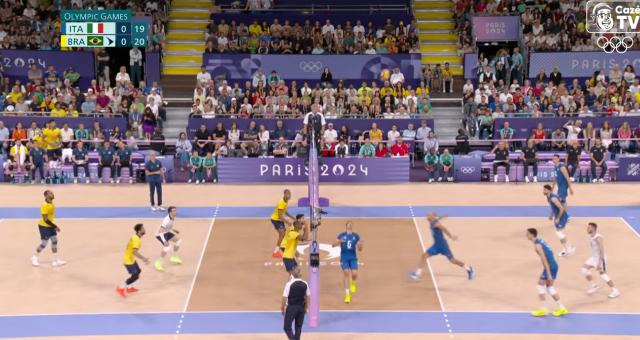Levantador: (338, 220, 362, 306), (119, 224, 145, 300)
Libero: (580, 219, 616, 297), (158, 206, 180, 264)
bola: (382, 68, 391, 80)
